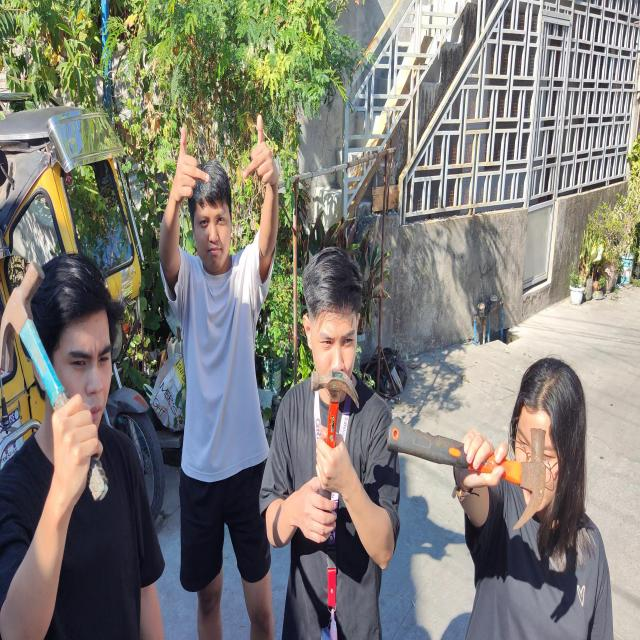hammer: (0, 260, 109, 503), (387, 415, 546, 530), (312, 369, 359, 502)
